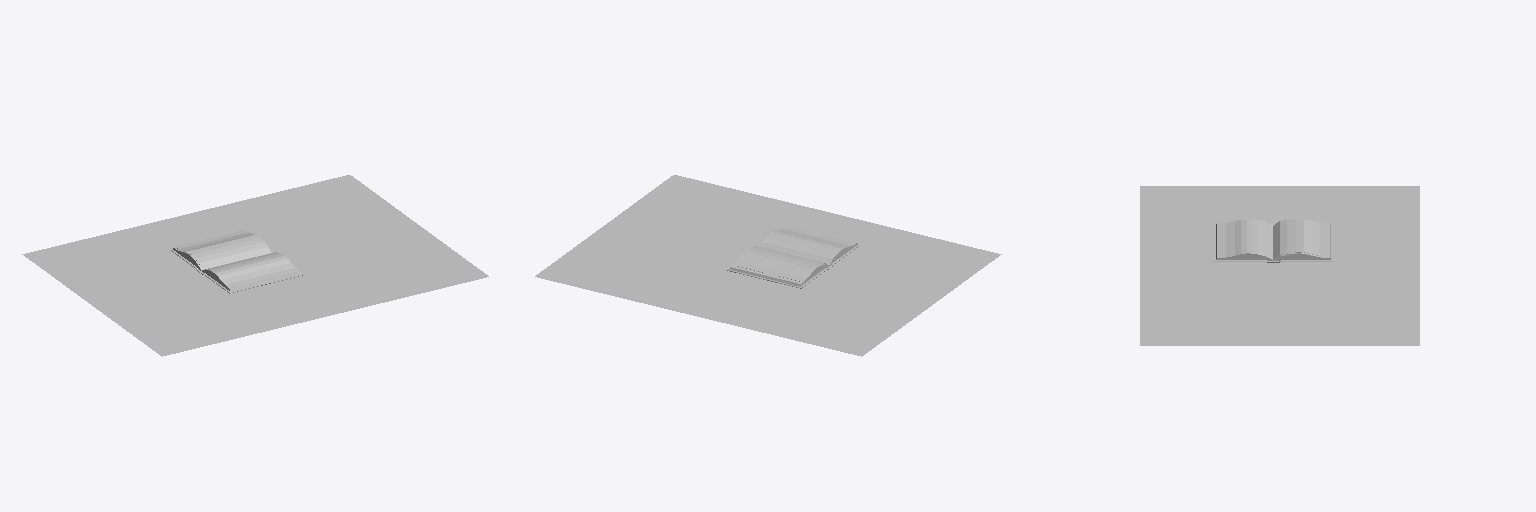
Rendered from Book.obj.
The picture shows the model from 3 angles: view 1: azimuth 30°, elevation 25°; view 2: azimuth 150°, elevation 25°; view 3: azimuth 270°, elevation 25°; orthographic projection.
Visible parts, largest first — view 1: Plane, Cube.003_Cube.001; view 2: Plane, Cube.003_Cube.001; view 3: Plane, Cube.003_Cube.001.
Boxes of the visible parts, x1,y1,x2,y2 form: Plane: [22, 175, 488, 356]; Cube.003_Cube.001: [170, 230, 302, 293]; Plane: [535, 175, 1001, 356]; Cube.003_Cube.001: [727, 225, 860, 288]; Plane: [1140, 186, 1419, 345]; Cube.003_Cube.001: [1214, 218, 1332, 262].
Bounding box in the file's own units: 22.39 × 1.26 × 16.54.